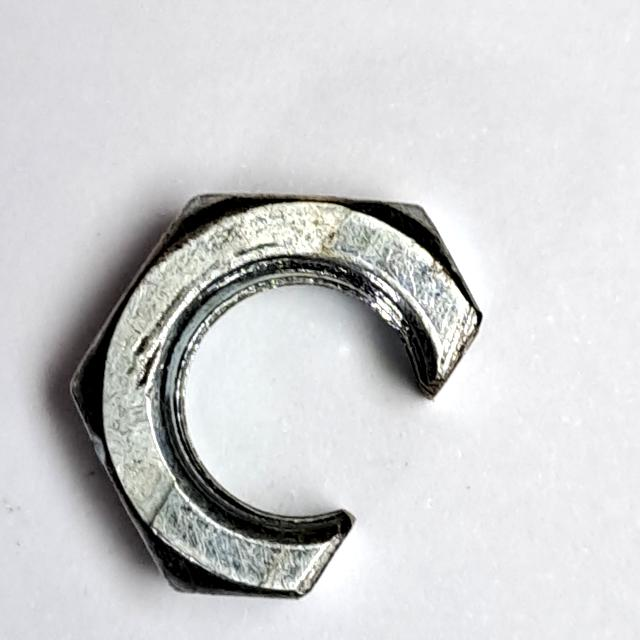Fracture: (57, 173, 499, 615)
